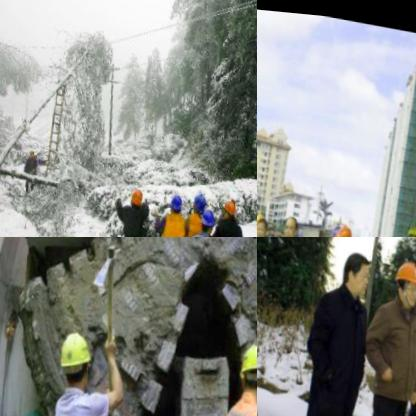helmet: (57, 323, 98, 391), (391, 252, 416, 306), (238, 333, 257, 394), (197, 202, 219, 233), (129, 181, 150, 213), (192, 185, 211, 217), (221, 192, 240, 221), (331, 215, 355, 237), (167, 187, 187, 213), (257, 205, 263, 236)
